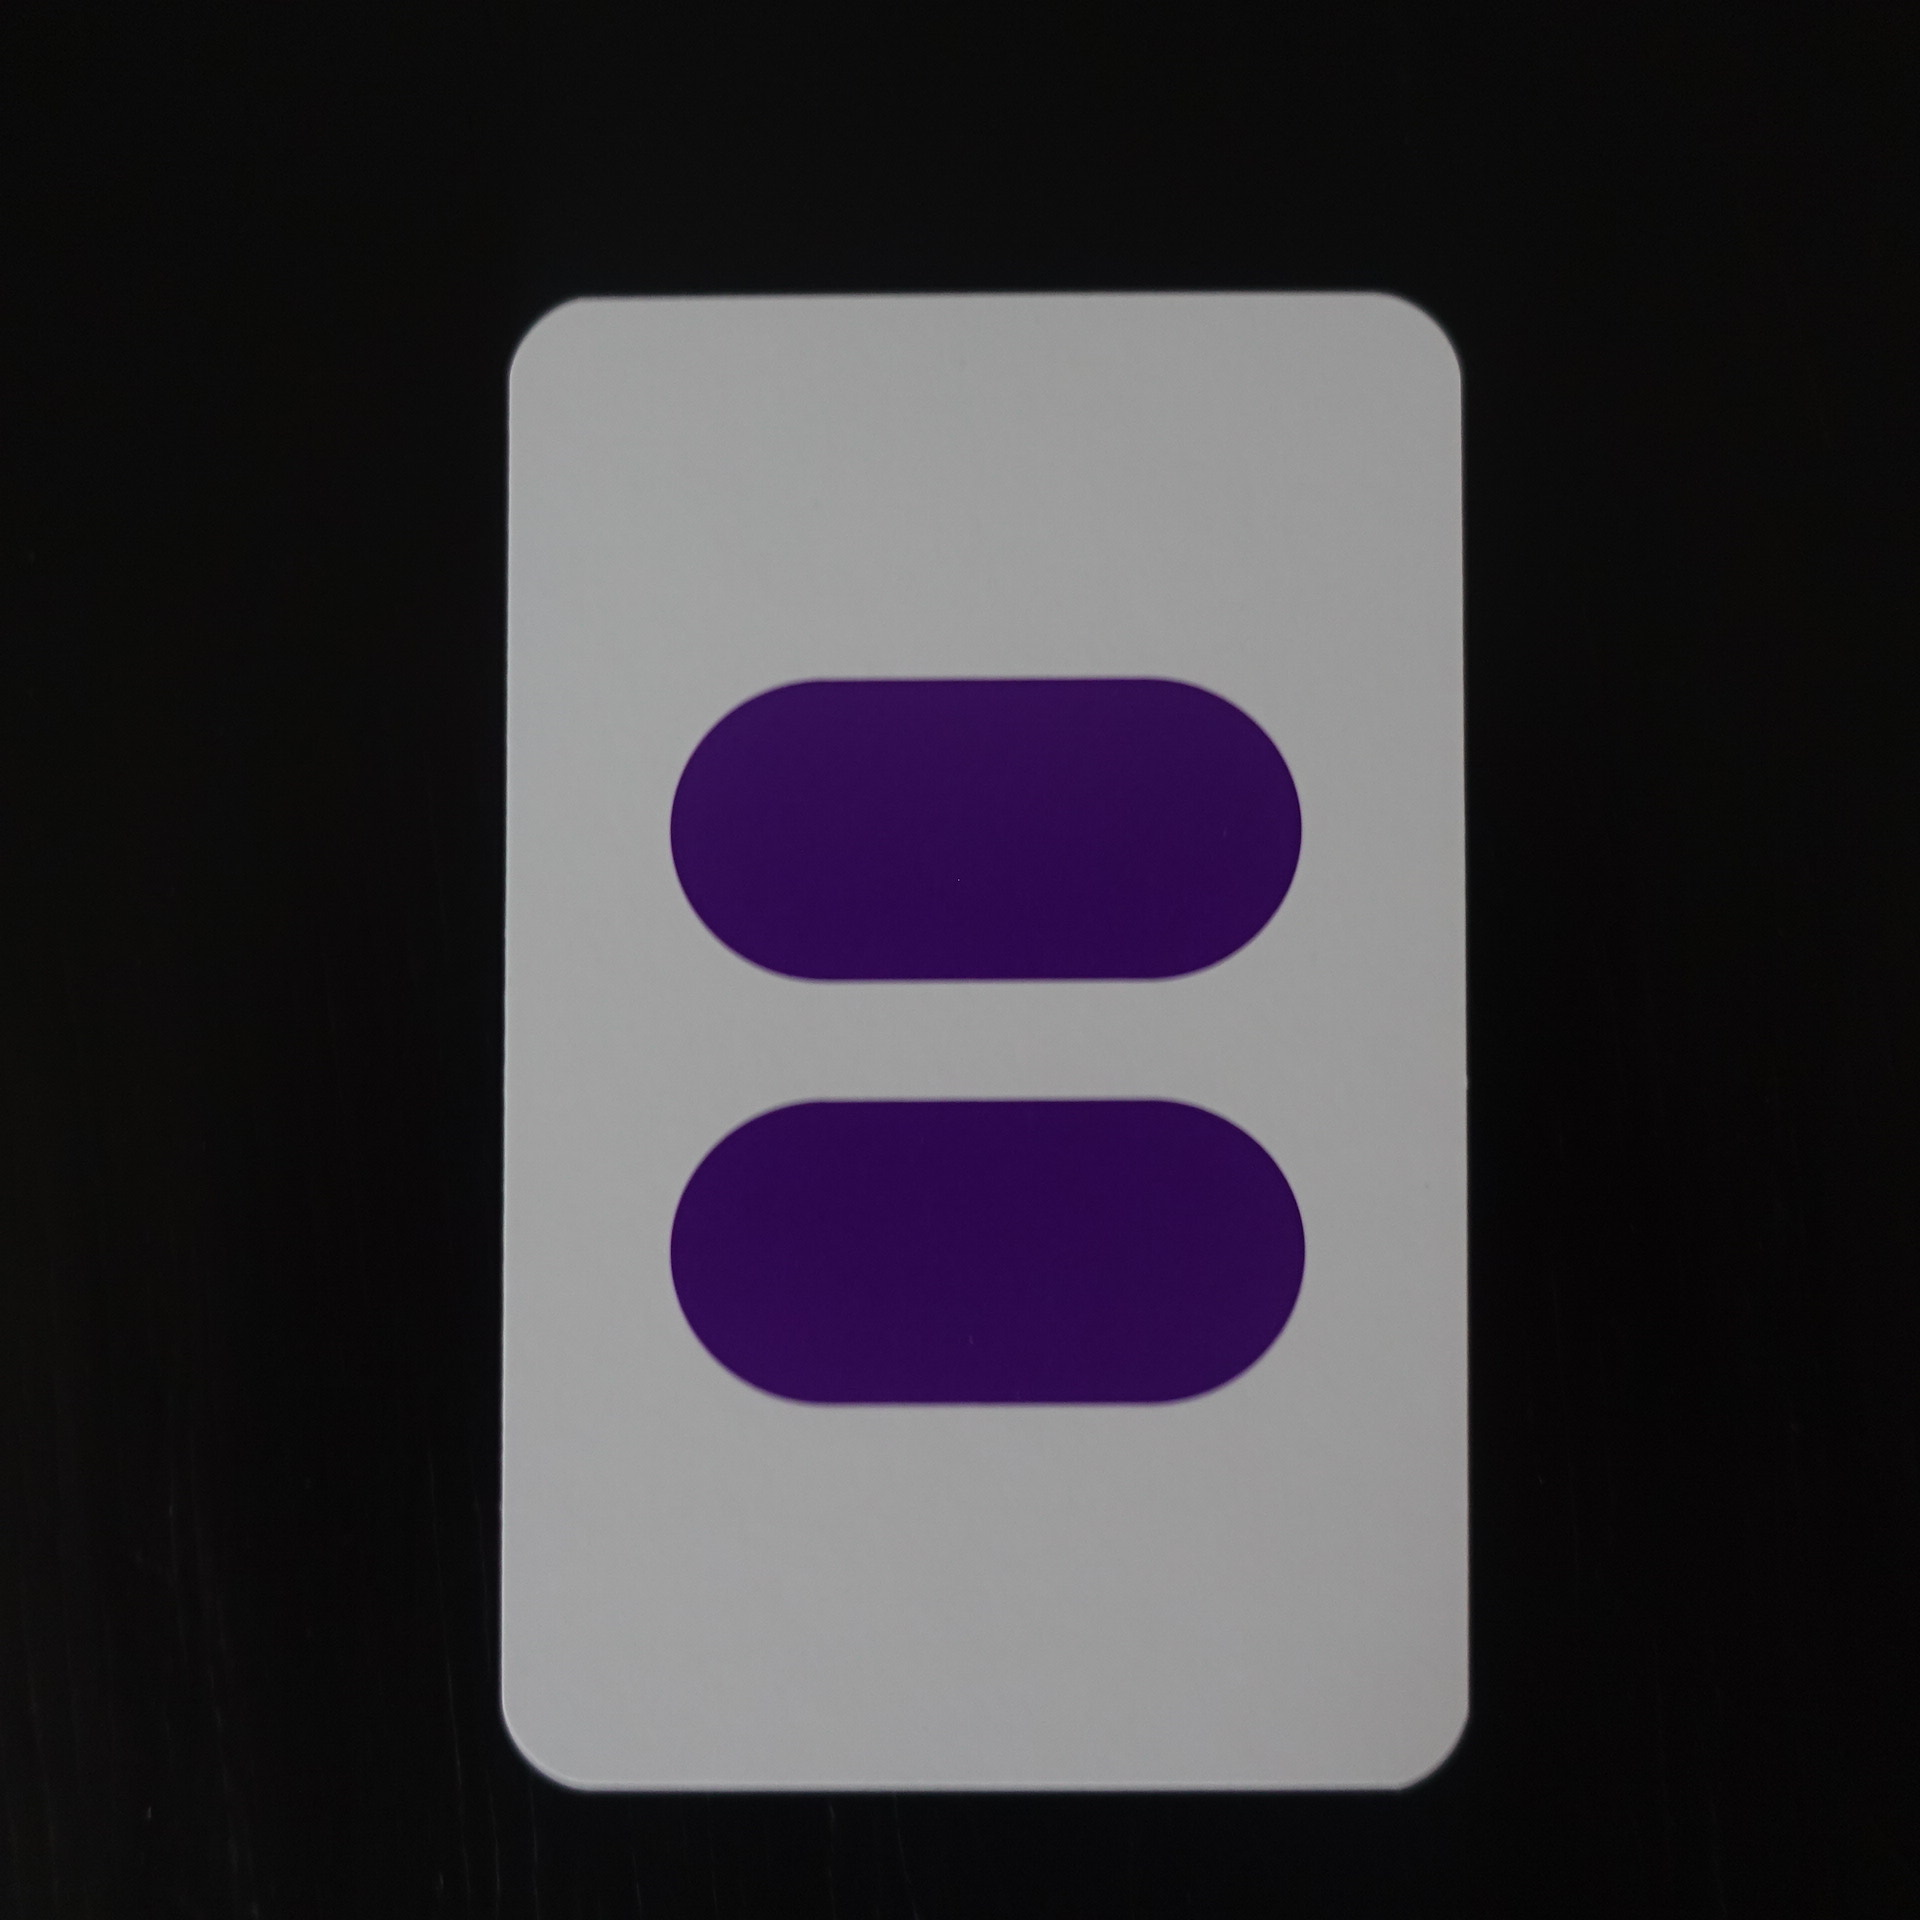c-2-f-d-r: (461, 262, 1507, 1816)
